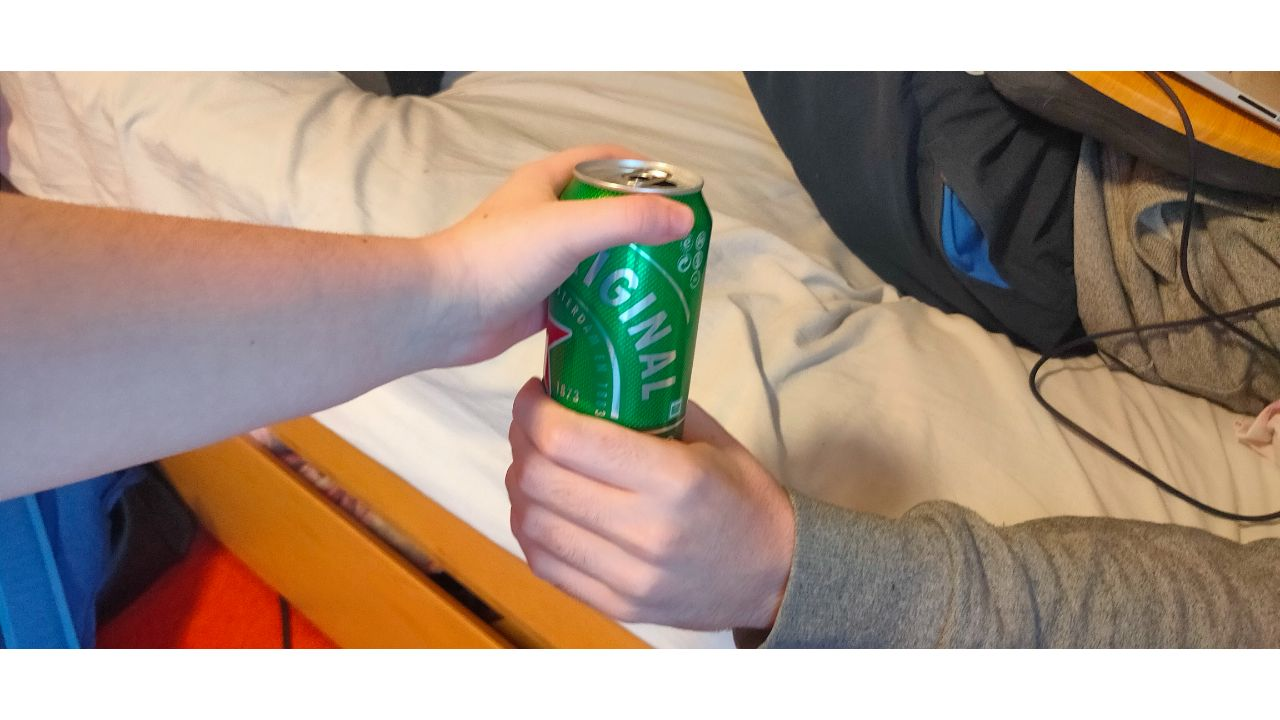Can: (542, 158, 713, 450)
